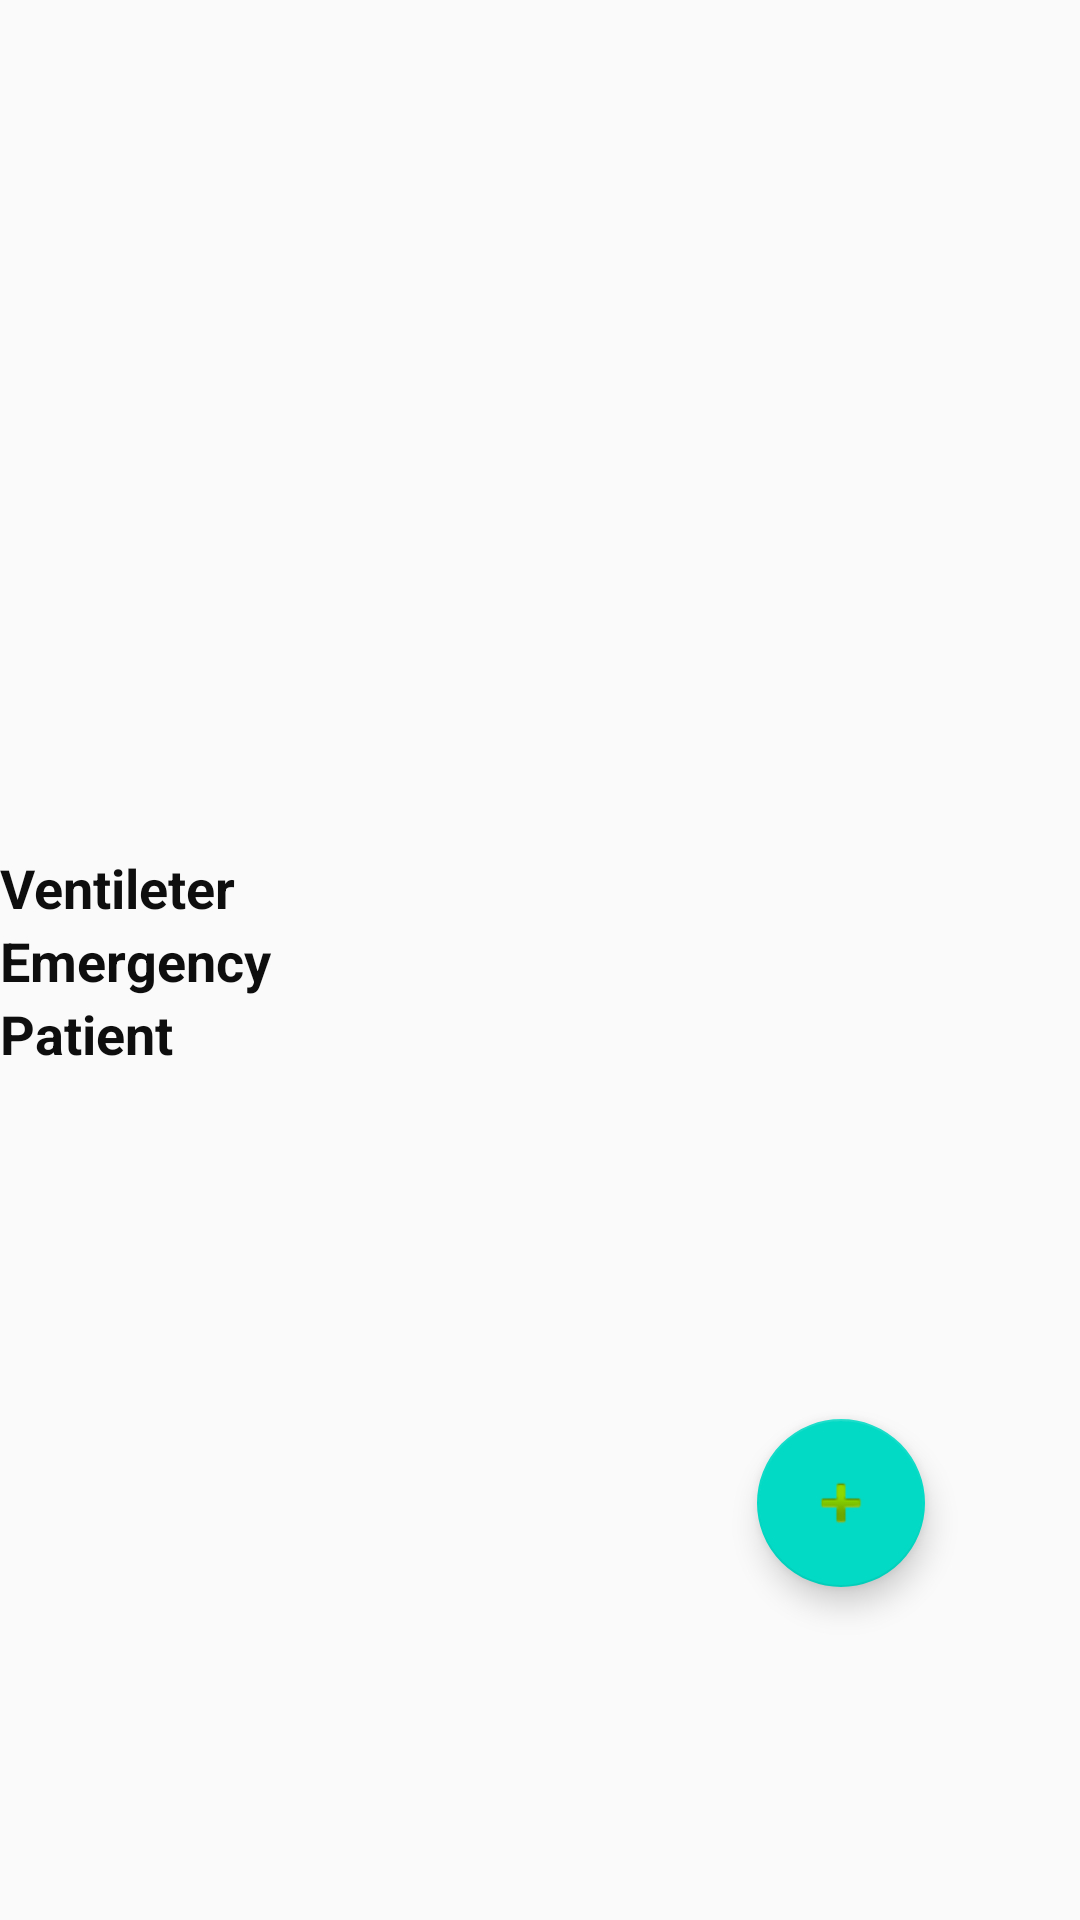

Icon click points for this 1080px×1920px phone screenshot, format (x,y):
add: (841,1503)
